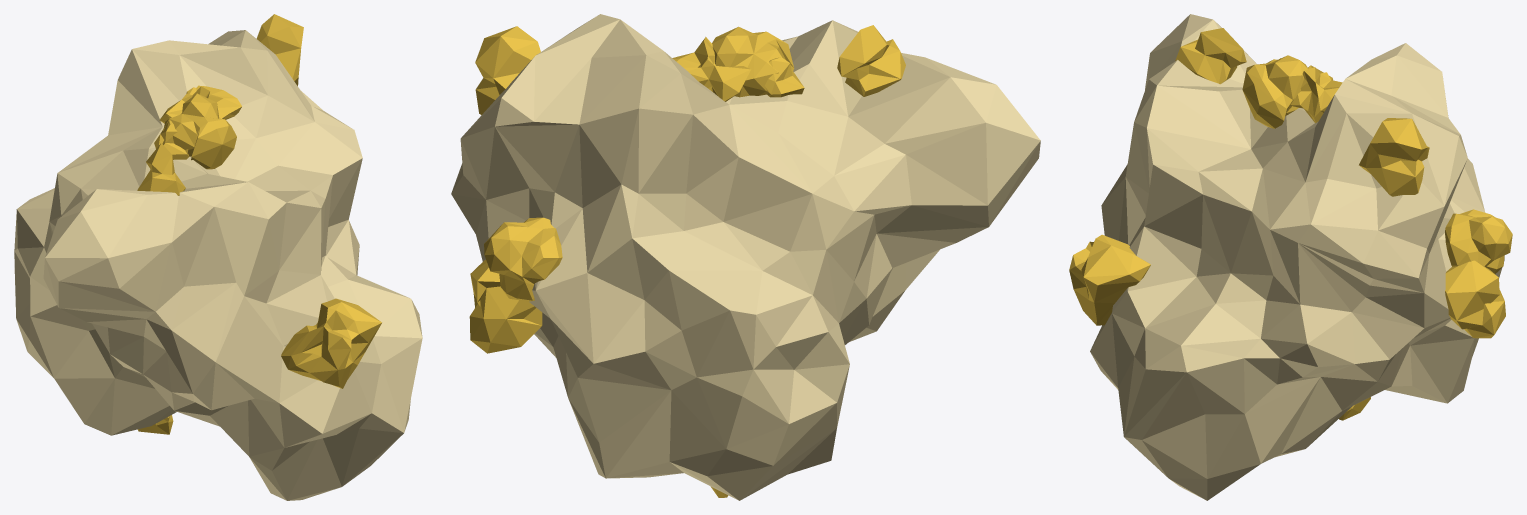
Rendered from MetalOre (50).fbx.
3 renders of one model, left to right at view 1: azimuth 30°, elevation 25°; view 2: azimuth 150°, elevation 25°; view 3: azimuth 270°, elevation 25°, orthographic. The views are drawn at different scales.
Parts seen in each view (by area): view 1: Asteroid405; view 2: Asteroid405; view 3: Asteroid405.
Boxes of the visible parts, x1,y1,x2,y2 form: Asteroid405: (14, 14, 422, 500); Asteroid405: (451, 14, 1040, 500); Asteroid405: (1069, 14, 1512, 500).
Size of the model in its own units: 339 by 339 by 327.
